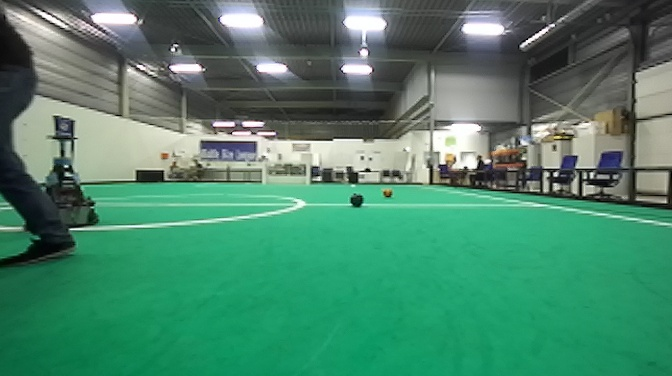ball: (346, 191, 366, 211), (380, 186, 395, 199)
goal: (260, 163, 311, 187)
goalpost: (260, 163, 268, 184), (305, 162, 312, 186)
human_part: (1, 1, 81, 272)
robot: (24, 112, 105, 230)
